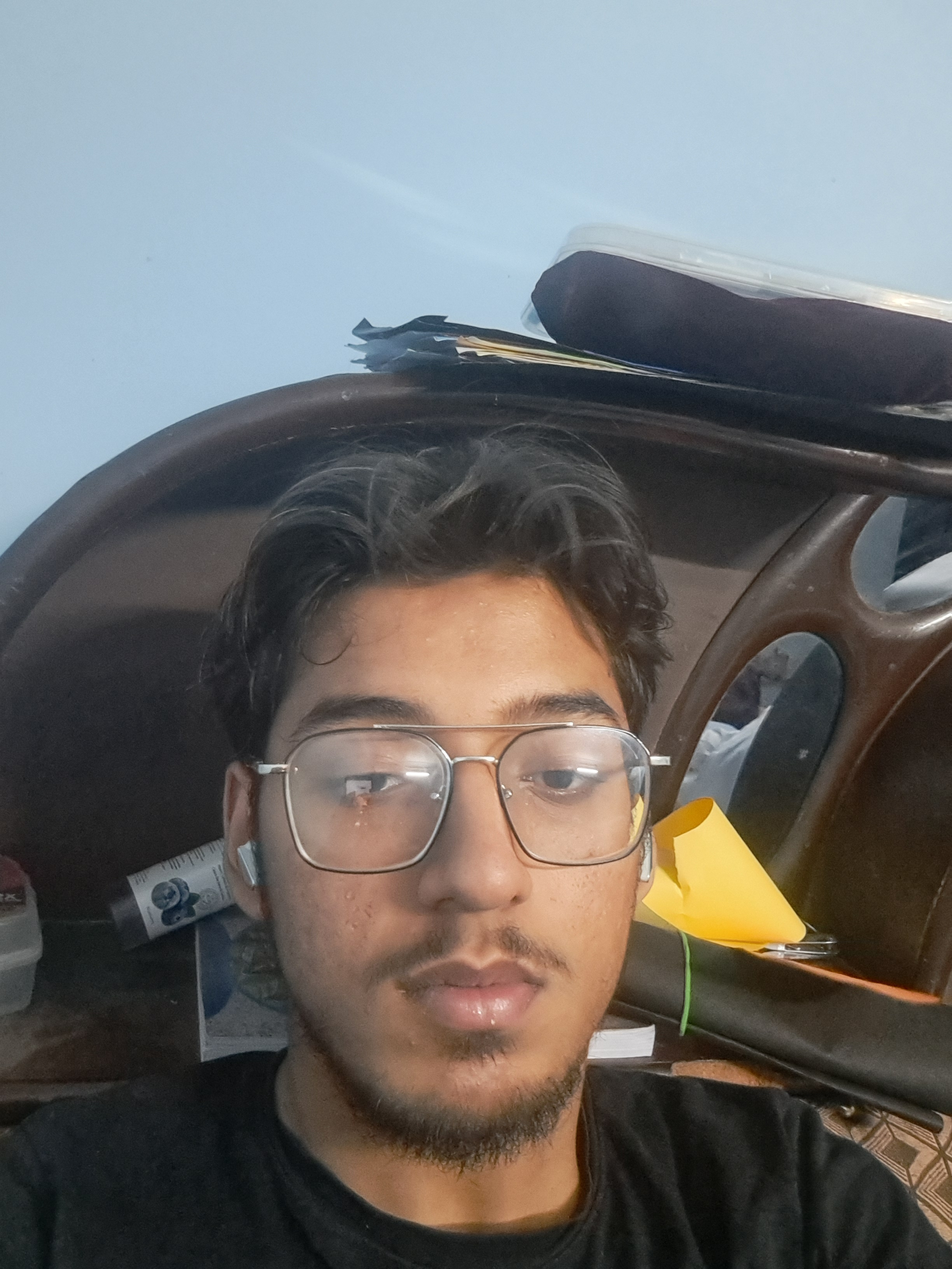closed_comedone: (403, 1031, 428, 1053), (417, 629, 442, 647), (339, 888, 359, 908), (464, 619, 480, 643)
